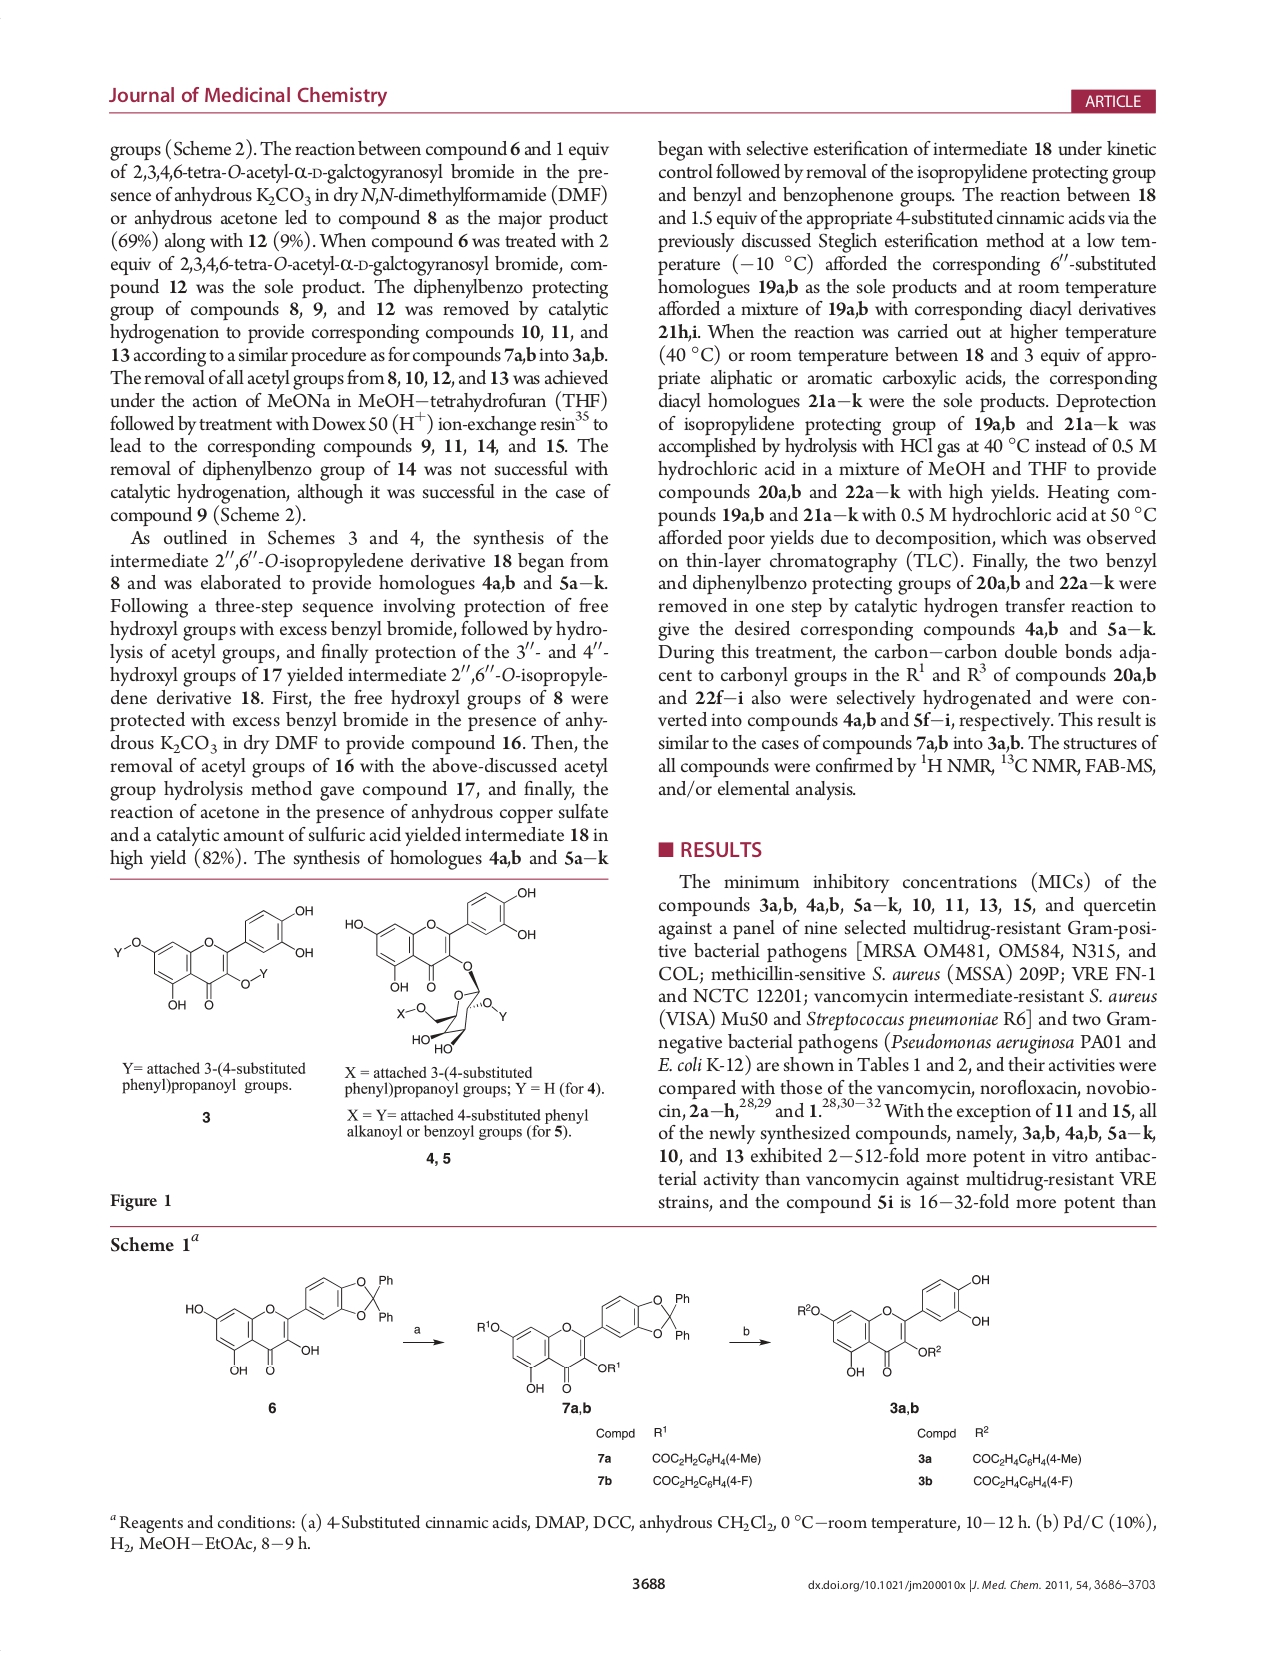exist_molecular: (340, 886, 541, 1059), (472, 1289, 696, 1398), (181, 1270, 398, 1380), (110, 902, 319, 1013), (793, 1274, 993, 1380)
